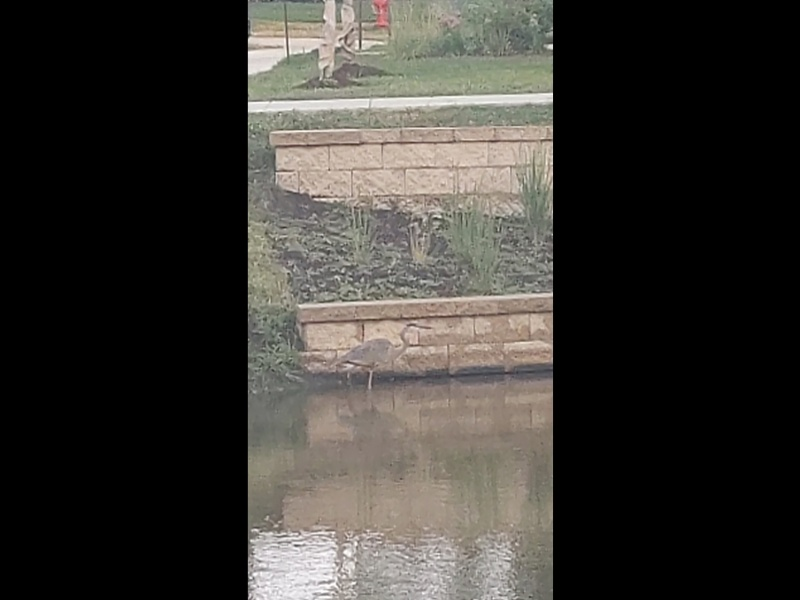heron: (333, 318, 433, 392)
